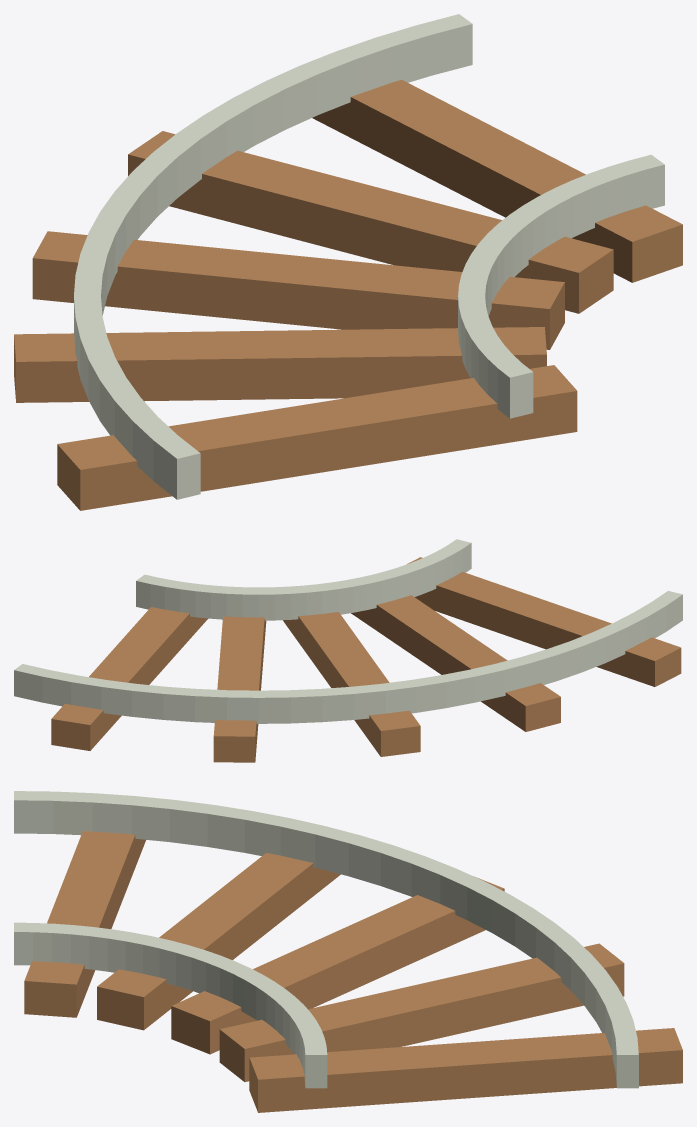
File: rail-curve_right_down.glb
The picture shows the model from 3 angles, top to bottom: view 1: azimuth 30°, elevation 25°; view 2: azimuth 150°, elevation 25°; view 3: azimuth 270°, elevation 25°; orthographic projection. The views are drawn at different scales.
Visible parts, largest first — view 1: Mesh_rail-curve_right_down_wood, Mesh_rail-curve_right_down_rail; view 2: Mesh_rail-curve_right_down_wood, Mesh_rail-curve_right_down_rail; view 3: Mesh_rail-curve_right_down_wood, Mesh_rail-curve_right_down_rail.
Boxes of the visible parts, x1,y1,x2,y2 form: Mesh_rail-curve_right_down_wood: (14,79,682,510); Mesh_rail-curve_right_down_rail: (74,14,664,499); Mesh_rail-curve_right_down_wood: (51,557,681,762); Mesh_rail-curve_right_down_rail: (14,539,682,723); Mesh_rail-curve_right_down_wood: (24,831,682,1112); Mesh_rail-curve_right_down_rail: (14,791,638,1088).
Size of the model in its own units: 0.7302 by 0.075 by 0.7302.
